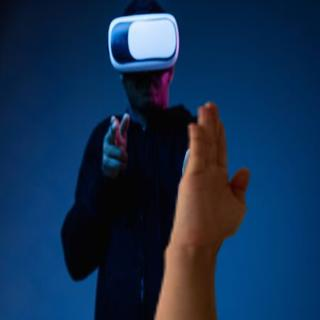RIGHT: (160, 95, 262, 260)
